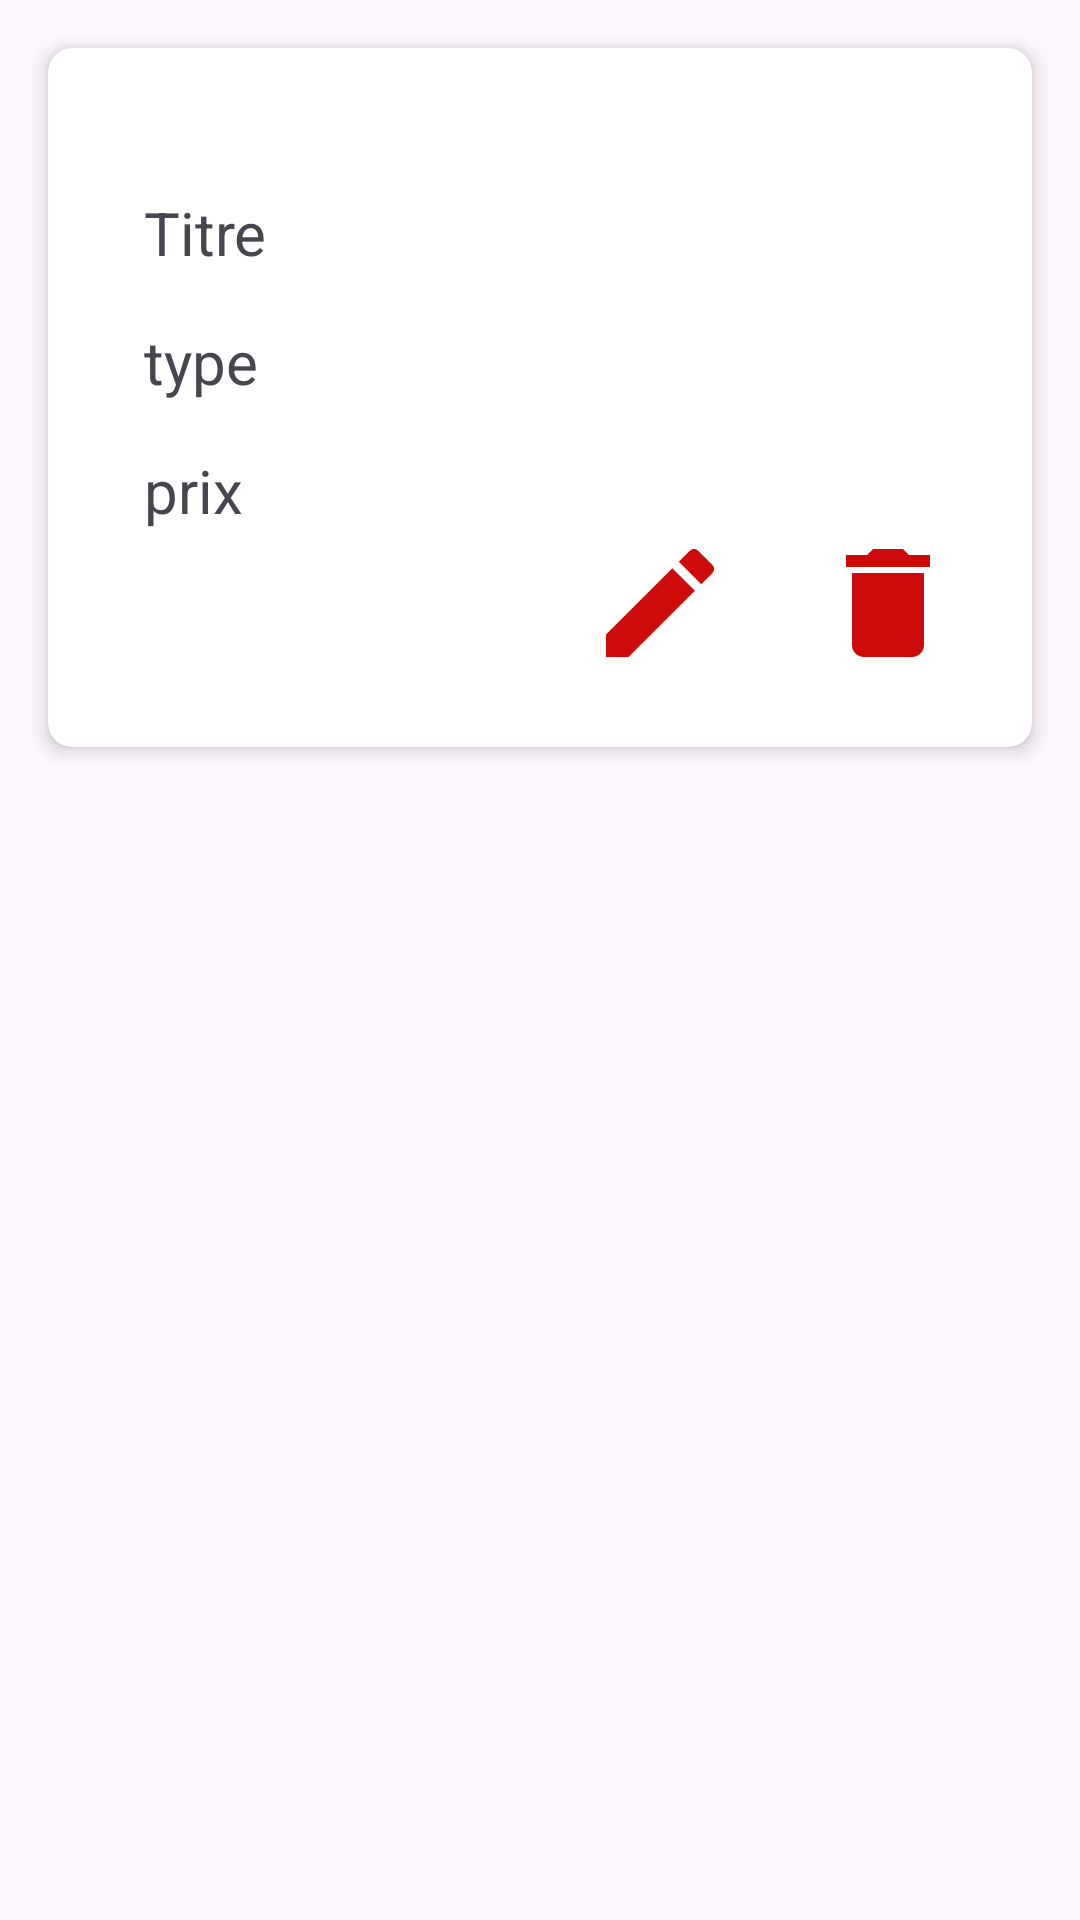

Screen size 1080px x 1920px. Icon name, then its box in pixels as (x1=x1, y1=y1, x2=x2, y2=y2):
edit: (x1=606, y1=549, x2=714, y2=657)
